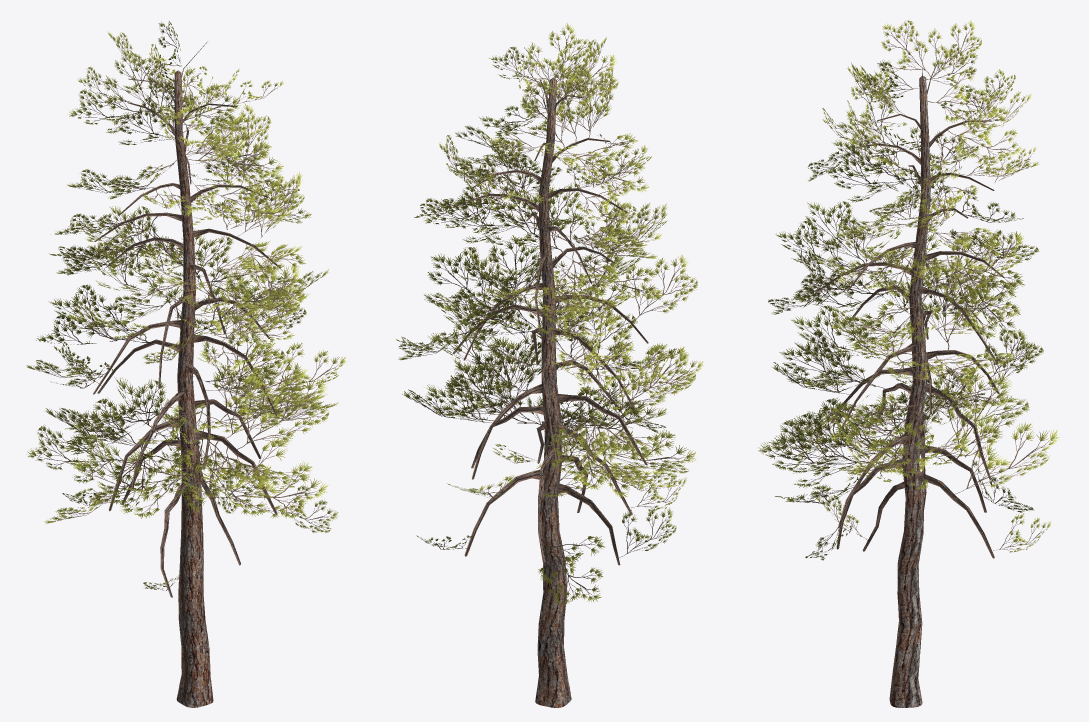
The model's file is Pine_Burned.fbx.
The picture shows the model from 3 angles, left to right: view 1: azimuth 30°, elevation 25°; view 2: azimuth 150°, elevation 25°; view 3: azimuth 270°, elevation 25°; orthographic projection.
Parts seen in each view (by area): view 1: Tree_1_Burned, Tree_0; view 2: Tree_1_Burned, Tree_0; view 3: Tree_1_Burned, Tree_0.
Part boxes in pixels (box(x1,y1,x2,y2)): Tree_1_Burned: box(26, 21, 346, 590); Tree_0: box(93, 41, 280, 707); Tree_1_Burned: box(396, 23, 703, 604); Tree_0: box(452, 47, 648, 707); Tree_1_Burned: box(758, 20, 1060, 560); Tree_0: box(815, 60, 1004, 707).
Size of the model in its own units: 159 by 347 by 157.
